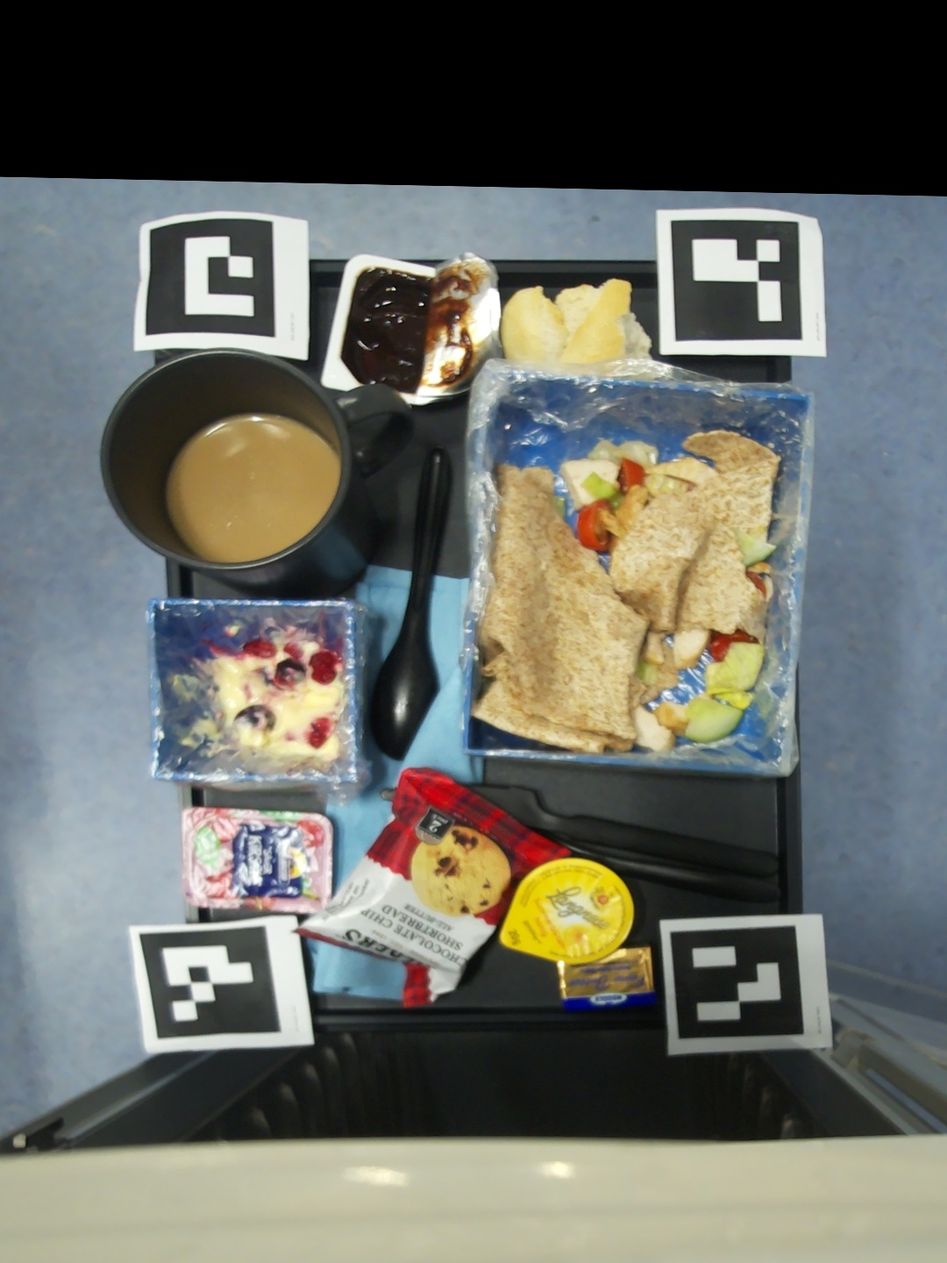bread_roll: (501, 279, 652, 362)
butter: (556, 947, 657, 1011)
cherry_jam: (183, 807, 332, 914)
coffee_cup: (101, 347, 415, 600)
cookie: (291, 766, 573, 1008)
honey: (499, 858, 634, 962)
plum_jam: (321, 251, 504, 405)
vanilla_pudding_with_fruits: (211, 632, 348, 772)
wrap_half_1: (471, 463, 651, 755)
wrap_half_2: (560, 430, 782, 753)
